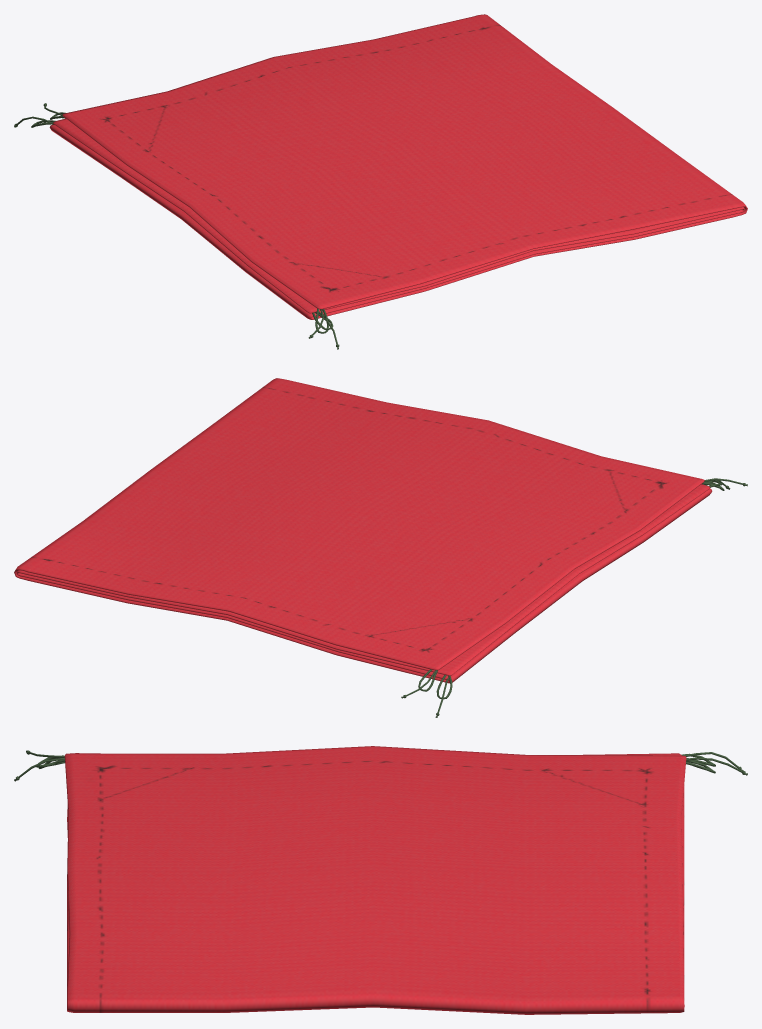
3 views of the same model, one above another, from view 1: azimuth 30°, elevation 25°; view 2: azimuth 150°, elevation 25°; view 3: azimuth 270°, elevation 25° (orthographic). The views are drawn at different scales.
Parts seen in each view (by area): view 1: VS17; view 2: VS17; view 3: VS17.
Part boxes in pixels (x1,y1,x2,y2): VS17: [14, 14, 747, 349]; VS17: [14, 378, 747, 717]; VS17: [14, 746, 747, 1014].
Bounding box in the file's own units: 163 × 13.79 × 192.
1 material, 1 textured.
